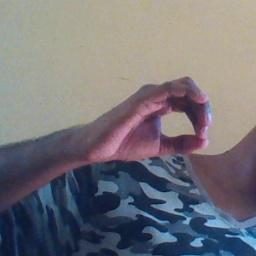O: (92, 73, 213, 168)
